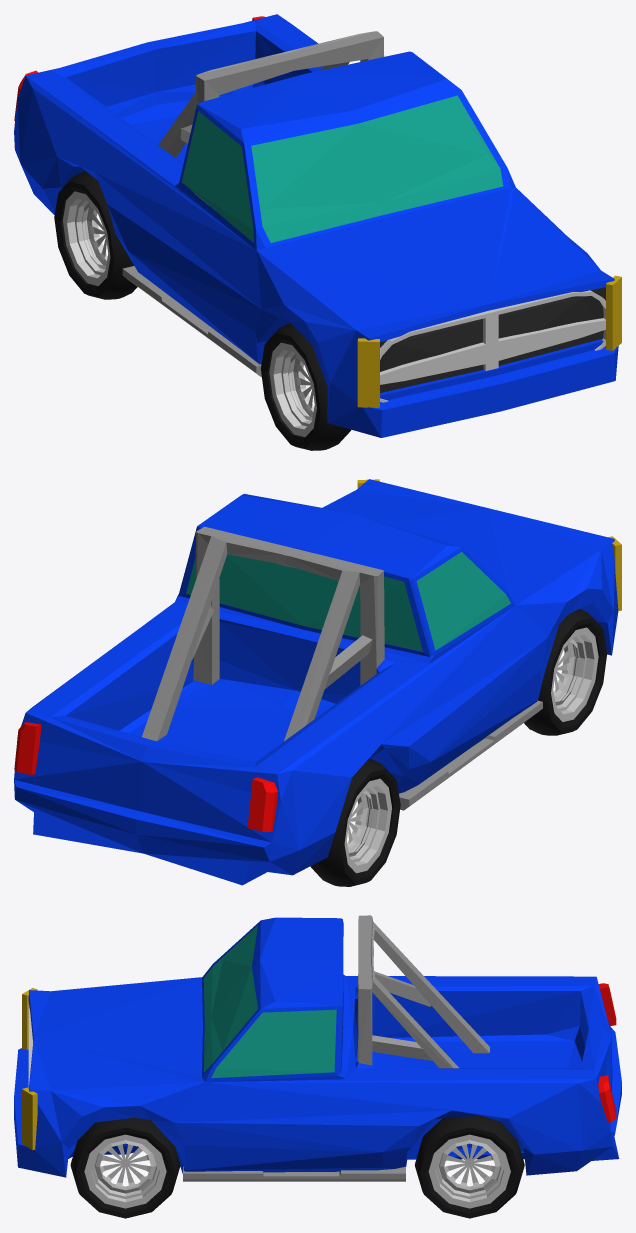
File: SM_pickup_truck_01.FBX
3 renders of one model, top to bottom at view 1: azimuth 30°, elevation 25°; view 2: azimuth 150°, elevation 25°; view 3: azimuth 270°, elevation 25°, orthographic. The views are drawn at different scales.
Parts seen in each view (by area): view 1: vehicle_main; view 2: vehicle_main; view 3: vehicle_main.
Boxes of the visible parts, bbox=[...] form: vehicle_main: bbox=[14, 14, 621, 450]; vehicle_main: bbox=[14, 479, 621, 886]; vehicle_main: bbox=[14, 915, 621, 1218].
Bounding box in the file's own units: 295 × 238 × 616.
